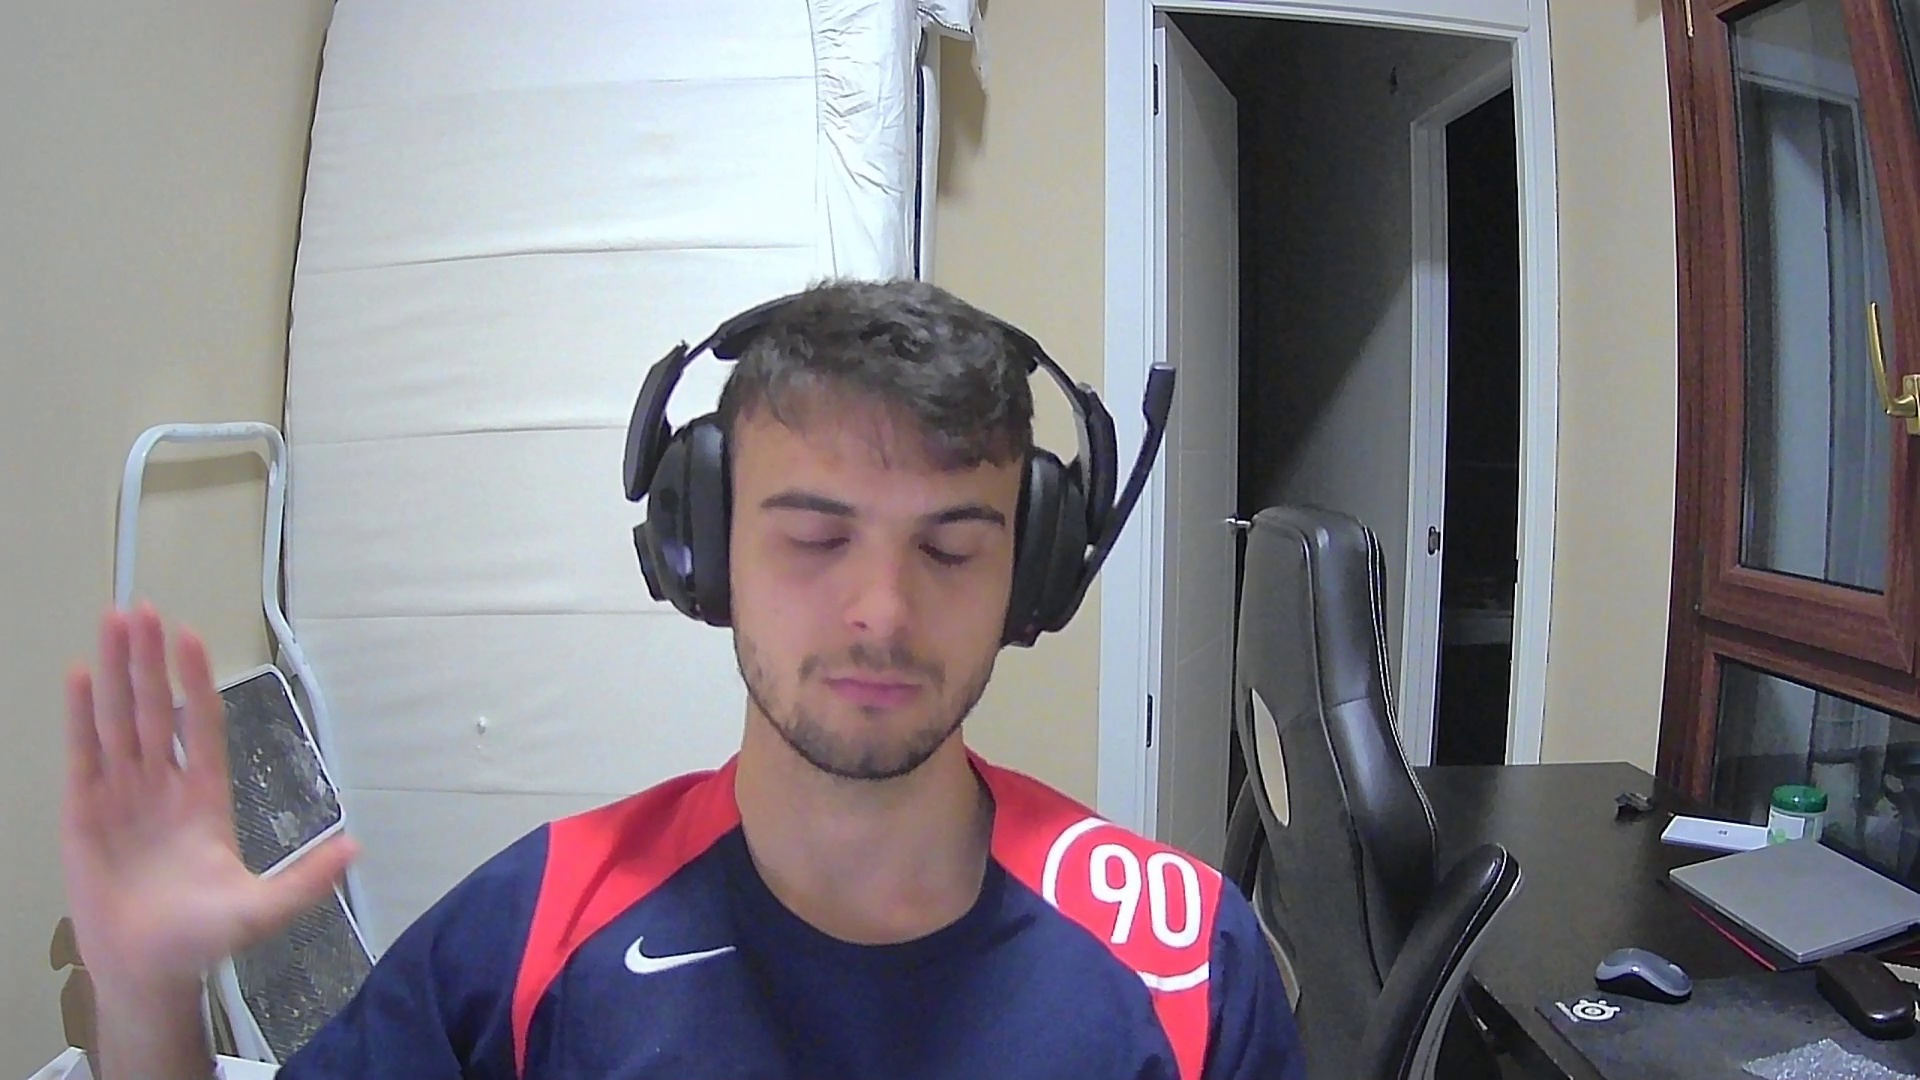Palm: (50, 596, 365, 1007)
